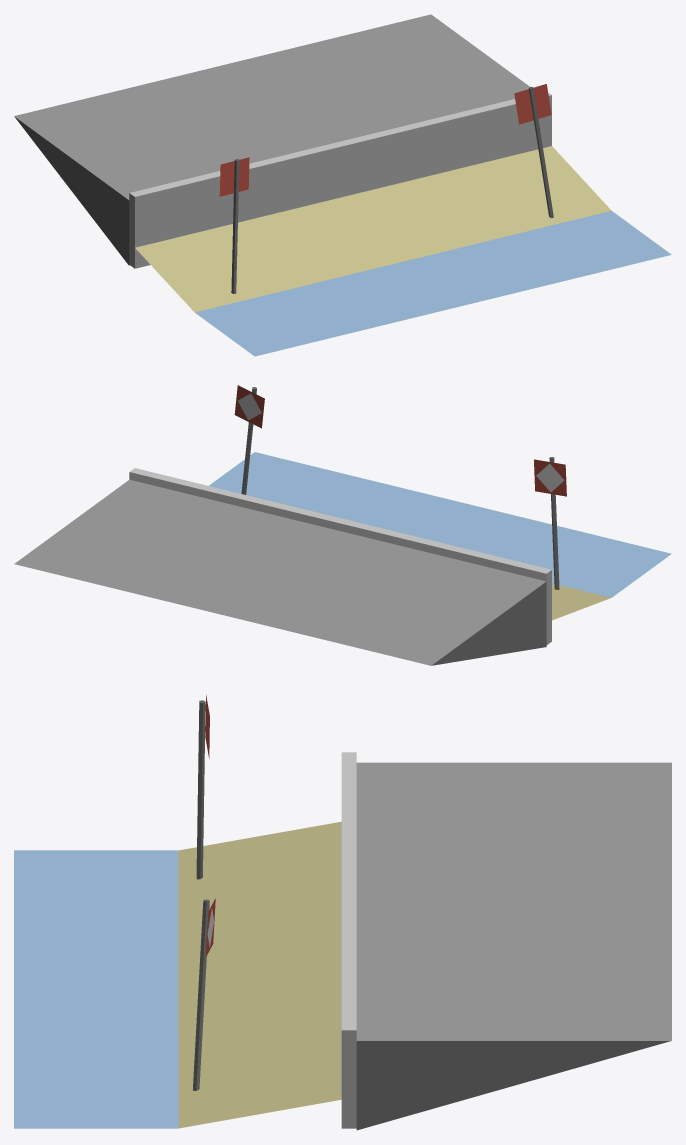
Rendered from beach_tile_1x1_005.fbx.
The picture shows the model from 3 angles, top to bottom: view 1: azimuth 30°, elevation 25°; view 2: azimuth 150°, elevation 25°; view 3: azimuth 270°, elevation 25°; orthographic projection. The views are drawn at different scales.
Parts seen in each view (by area): view 1: beach_tile_1x1_005; view 2: beach_tile_1x1_005; view 3: beach_tile_1x1_005.
Boxes of the visible parts, bbox=[...] form: beach_tile_1x1_005: bbox=[14, 14, 671, 356]; beach_tile_1x1_005: bbox=[14, 385, 671, 665]; beach_tile_1x1_005: bbox=[14, 695, 671, 1130].
Size of the model in its own units: 800 by 248 by 800.
